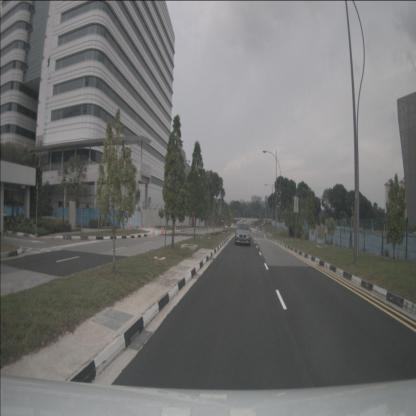movable_object-trafficcone: (132, 222, 135, 229), (127, 223, 130, 230), (152, 228, 155, 235), (160, 228, 163, 235), (120, 222, 123, 228), (162, 226, 164, 234), (148, 221, 150, 228)
vehicle-car: (235, 222, 251, 246)
